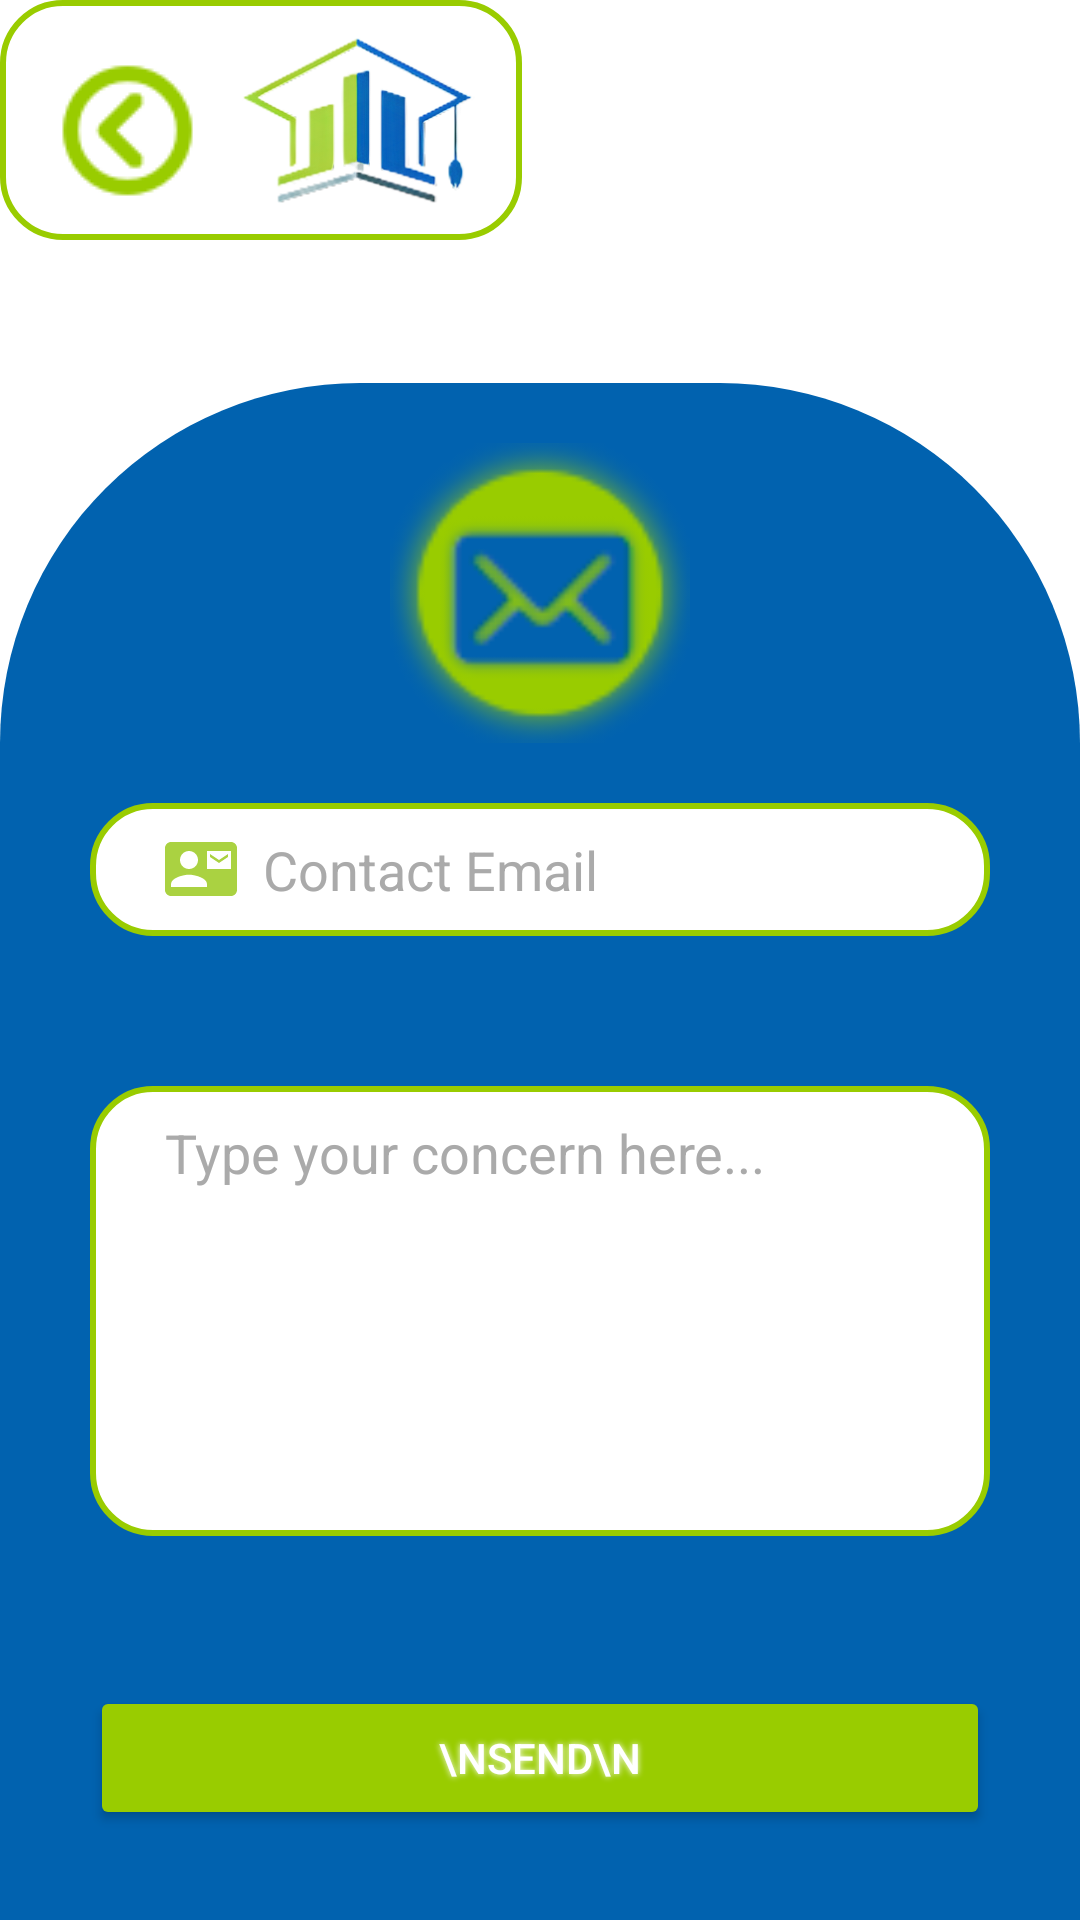

Icons on this 1080w x 1920h Android screen, each with its box as (x1, y1, x2, y2):
back: (62, 65, 193, 196)
contactusicon: (402, 454, 678, 732)
